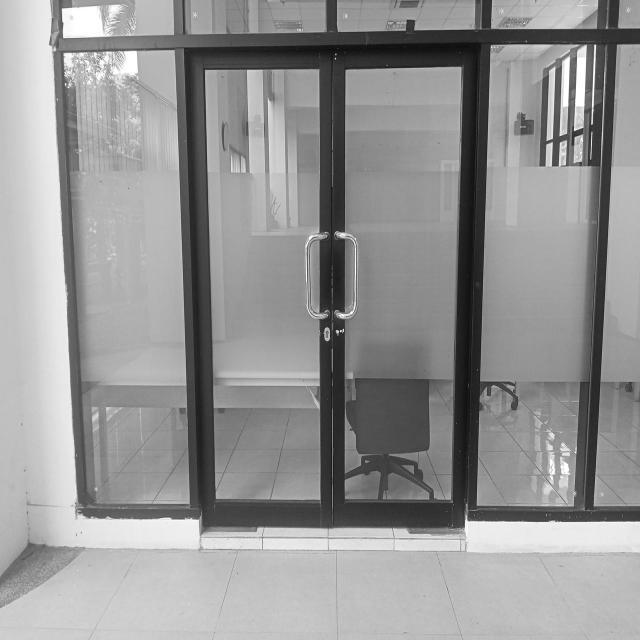door: (185, 43, 479, 530)
